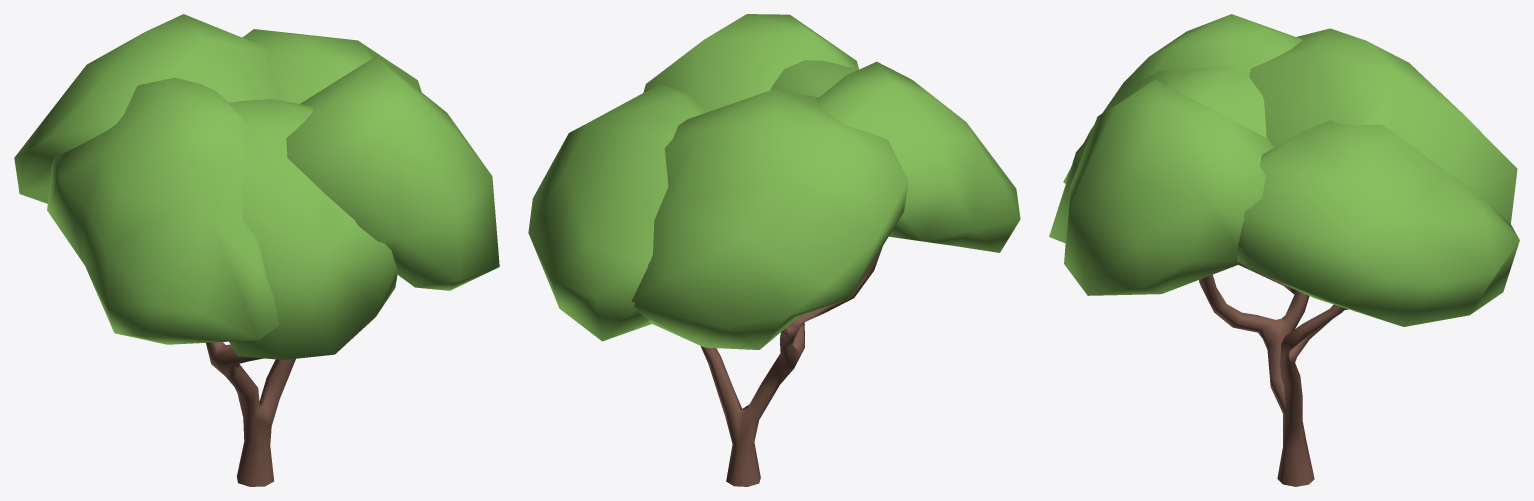
Rendered from tree_017.fbx.
3 views of the same model, side by side, from view 1: azimuth 30°, elevation 25°; view 2: azimuth 150°, elevation 25°; view 3: azimuth 270°, elevation 25° (orthographic). The views are drawn at different scales.
Parts seen in each view (by area): view 1: tree_017; view 2: tree_017; view 3: tree_017.
Boxes of the visible parts, x1,y1,x2,y2 form: tree_017: (14,14,499,486); tree_017: (528,14,1020,486); tree_017: (1049,14,1519,486).
Bounding box in the file's own units: 978 × 1005 × 1045.
